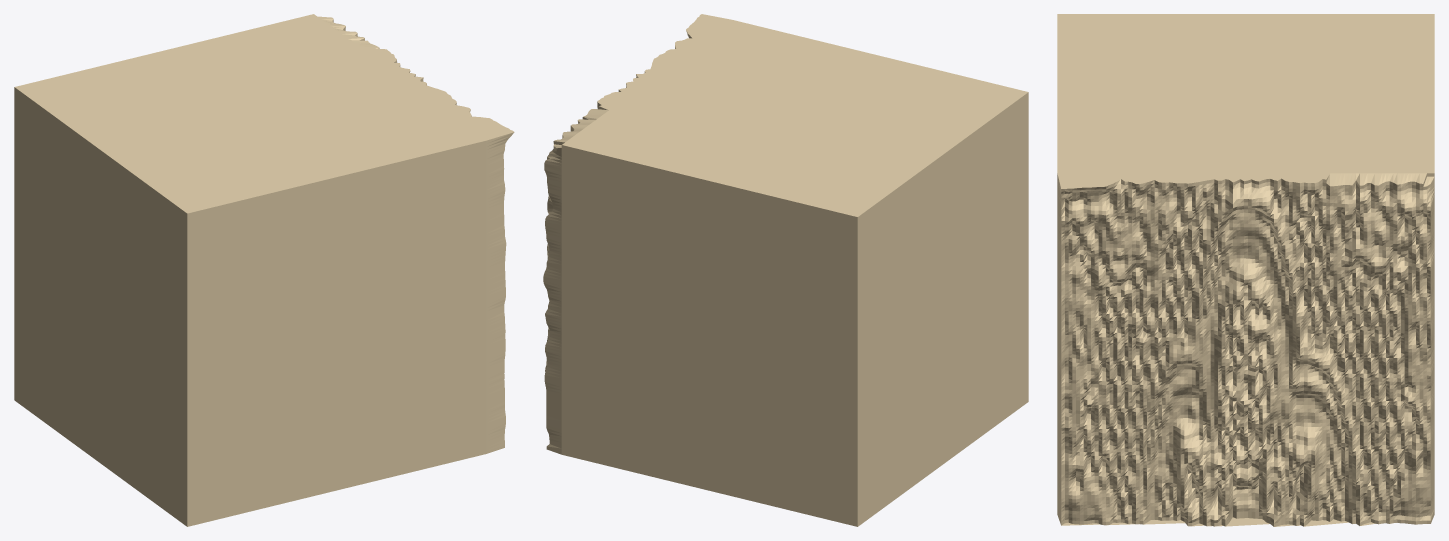
File: top5.png.obj
3 views of the same model, side by side, from view 1: azimuth 30°, elevation 25°; view 2: azimuth 150°, elevation 25°; view 3: azimuth 270°, elevation 25° (orthographic). The views are drawn at different scales.
Parts seen in each view (by area): view 1: Cube; view 2: Cube; view 3: Cube.
Part boxes in pixels (left/top/right/bottom): Cube: left=14, top=14, right=514, bottom=526; Cube: left=543, top=14, right=1028, bottom=526; Cube: left=1057, top=14, right=1434, bottom=526.
Bounding box in the file's own units: 1.1 × 1 × 1.
